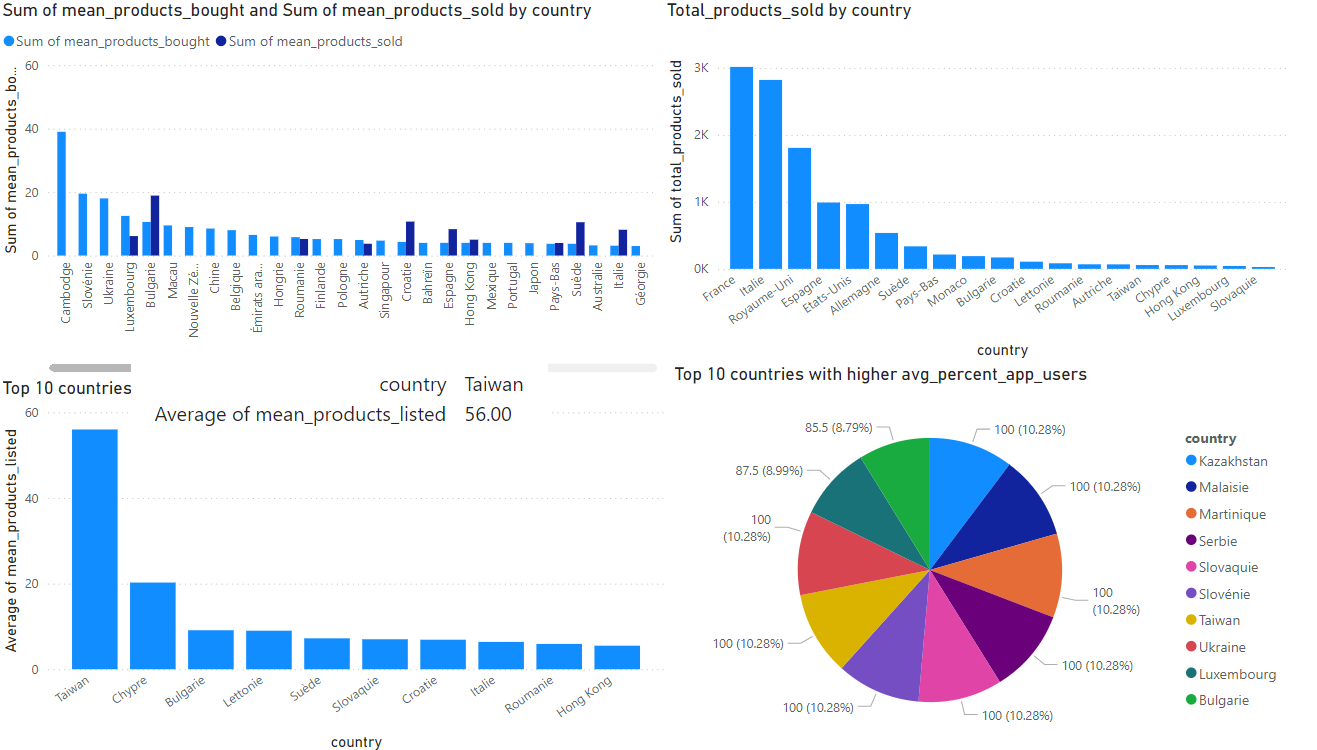

The page's visual inventory and layout, read from the dashboard file:
{"tool":"powerbi","page":{"name":"Page 1","canvas":[1280,720],"ordinal":0},"visuals":[{"type":"columnChart","title":"Top 10 countries with highest products listed","fields":{"Category":["part-00000-8bf48788-9d15-4d47-aa0d-c9fce849b15a.country"],"Y":["Avg(part-00000-8bf48788-9d15-4d47-aa0d-c9fce849b15a.mean_products_listed)"]},"box":[0,360,640,360],"z":0},{"type":"clusteredColumnChart","title":"Total_products_sold by country","fields":{"Y":["Sum(part-00000-8bf48788-9d15-4d47-aa0d-c9fce849b15a.total_products_sold)"],"Category":["part-00000-8bf48788-9d15-4d47-aa0d-c9fce849b15a.country"]},"box":[633.3,0,600,346.7],"z":1},{"type":"pieChart","title":"Top 10 countries with higher avg_percent_app_users","fields":{"Category":["part-00000-8bf48788-9d15-4d47-aa0d-c9fce849b15a.country"],"Y":["Avg(part-00000-8bf48788-9d15-4d47-aa0d-c9fce849b15a.avg_percent_app_users)"]},"box":[640,346.7,593.3,373.3],"z":2},{"type":"clusteredColumnChart","fields":{"Y":["Sum(part-00000-8bf48788-9d15-4d47-aa0d-c9fce849b15a.mean_products_bought)","Sum(part-00000-8bf48788-9d15-4d47-aa0d-c9fce849b15a.mean_products_sold)"],"Category":["part-00000-8bf48788-9d15-4d47-aa0d-c9fce849b15a.country"]},"box":[0,0,633.3,360],"z":3}]}

Visuals, with their boxes in screenshot pixels (x1, y1, x2, y2), scaled from the page's 1280x720 canvas onto the 1317x750 screenshot:
"Top 10 countries with highest products listed" columnChart: detection(0, 375, 658, 749)
"Total_products_sold by country" clusteredColumnChart: detection(652, 0, 1269, 361)
"Top 10 countries with higher avg_percent_app_users" pieChart: detection(658, 361, 1269, 749)
clusteredColumnChart - Sum(part-00000-8bf48788-9d15-4d47-aa0d-c9fce849b15a.mean_products_bought) x Sum(part-00000-8bf48788-9d15-4d47-aa0d-c9fce849b15a.mean_products_sold): detection(0, 0, 652, 375)
